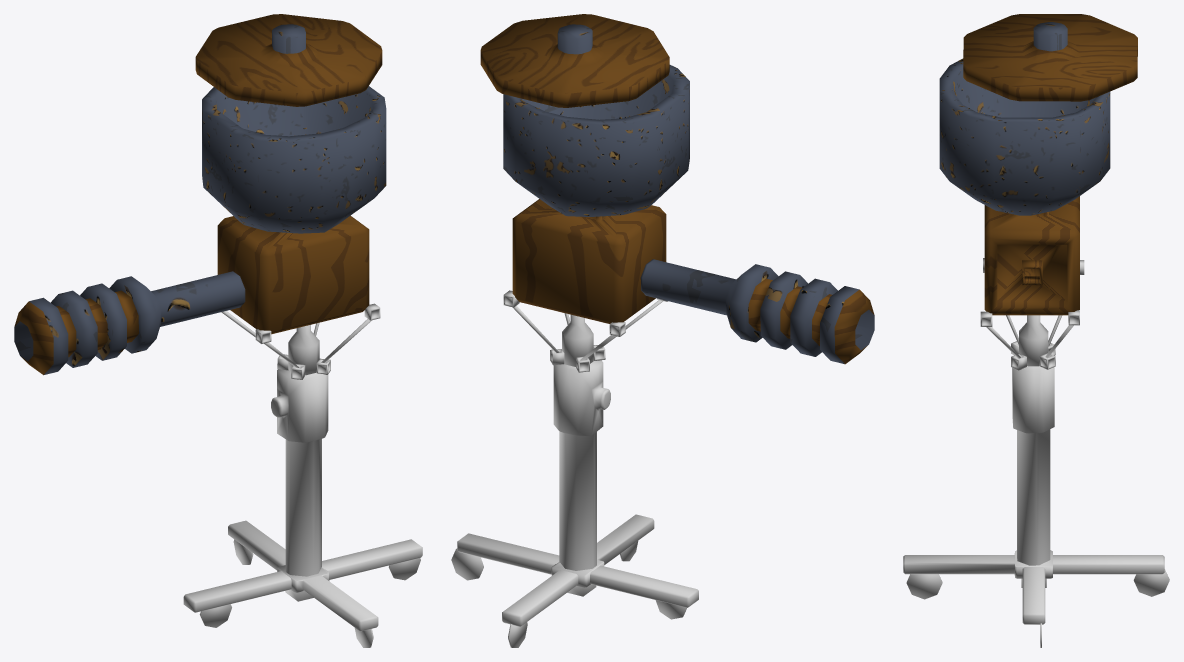
The model's file is TURRETA DE MANICOBA.dae.
3 views of the same model, side by side, from view 1: azimuth 30°, elevation 25°; view 2: azimuth 150°, elevation 25°; view 3: azimuth 270°, elevation 25° (orthographic). The views are drawn at different scales.
Parts seen in each view (by area): view 1: Círculo, PE; view 2: Círculo, PE; view 3: Círculo, PE.
Part boxes in pixels (x1,y1,x2,y2): Círculo: (14,14,386,379); PE: (183,369,422,647); Círculo: (480,14,874,372); PE: (451,360,698,647); Círculo: (939,14,1137,370); PE: (903,366,1169,647).
Bounding box in the file's own units: 5.65 × 3.28 × 7.68.
